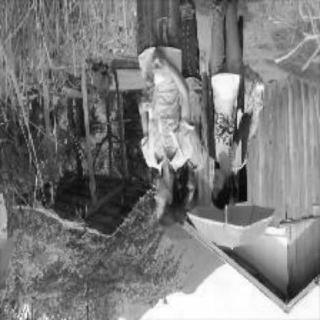other: (135, 8, 211, 88)
